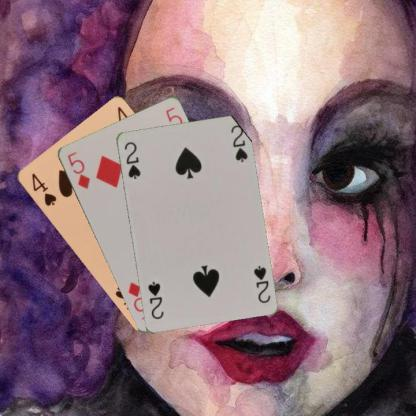2s: (250, 262, 272, 304), (121, 139, 142, 180)
4s: (28, 170, 58, 208)
5d: (64, 149, 91, 190)
